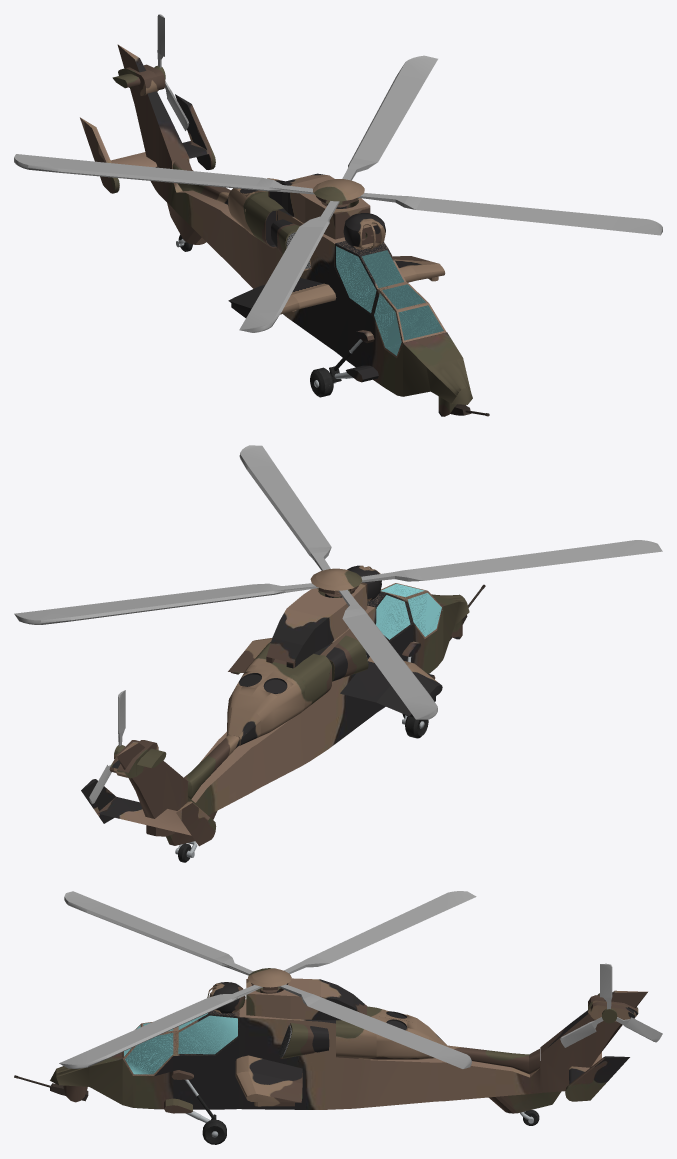
File: tigre-ec665.glb
3 views of the same model, one above another, from view 1: azimuth 30°, elevation 25°; view 2: azimuth 150°, elevation 25°; view 3: azimuth 270°, elevation 25° (orthographic). The views are drawn at different scales.
Visible parts, largest first — view 1: Rotation; view 2: Rotation; view 3: Rotation.
Part boxes in pixels (x1=…): Rotation: x1=14, y1=14, x2=662, y2=416; Rotation: x1=14, y1=445, x2=662, y2=862; Rotation: x1=14, y1=891, x2=662, y2=1144.
Bounding box in the file's own units: 6.63 × 2.94 × 10.21.
Materials: 13 (12 with a texture image).
